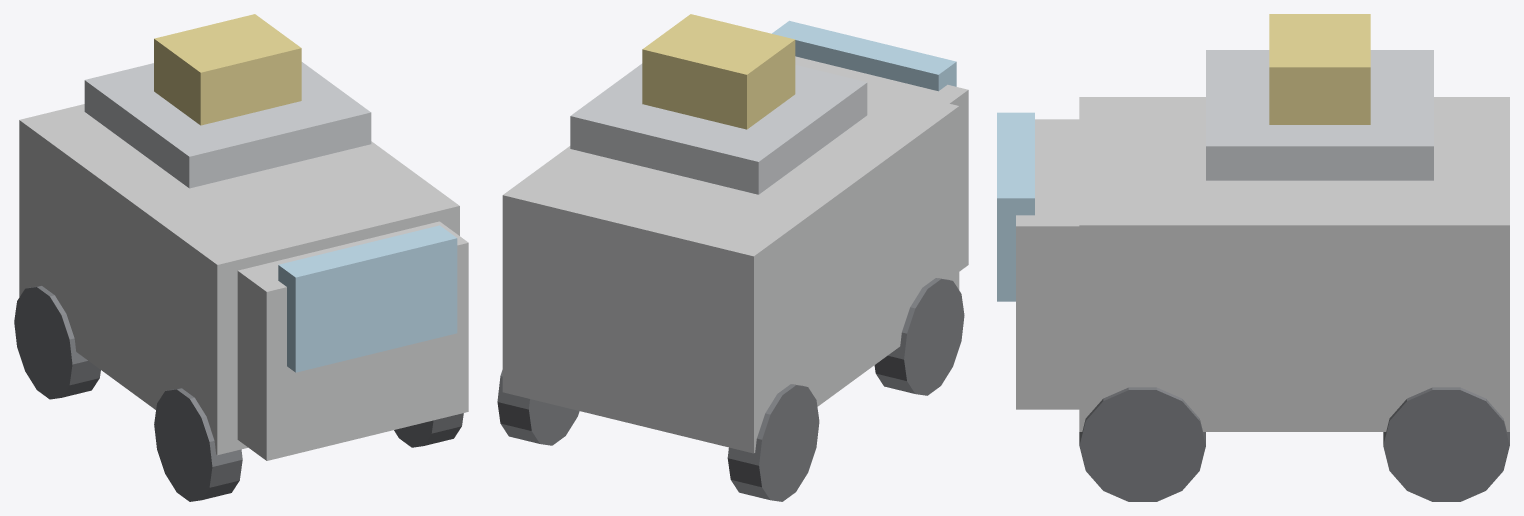
Rendered from service_van.glb.
3 renders of one model, left to right at view 1: azimuth 30°, elevation 25°; view 2: azimuth 150°, elevation 25°; view 3: azimuth 270°, elevation 25°, orthographic. The views are drawn at different scales.
Parts seen in each view (by area): view 1: body, cab_front, windshield, roof_rack, tool_box, wheel_0, wheel_2, wheel_1; view 2: body, roof_rack, tool_box, wheel_2, wheel_0, windshield, cab_front, wheel_3; view 3: body, roof_rack, cab_front, wheel_1, wheel_3, tool_box, windshield.
Part boxes in pixels (bbox=[...]): body: bbox=[19, 104, 459, 455]; cab_front: bbox=[237, 221, 468, 460]; windshield: bbox=[278, 225, 457, 372]; roof_rack: bbox=[84, 62, 371, 188]; tool_box: bbox=[154, 14, 301, 125]; wheel_0: bbox=[154, 388, 242, 501]; wheel_2: bbox=[14, 286, 100, 399]; wheel_1: bbox=[394, 413, 463, 447]; body: bbox=[502, 83, 959, 453]; roof_rack: bbox=[570, 63, 867, 194]; tool_box: bbox=[642, 14, 795, 129]; wheel_2: bbox=[727, 384, 819, 501]; wheel_0: bbox=[874, 278, 964, 395]; windshield: bbox=[772, 20, 956, 91]; cab_front: bbox=[795, 56, 968, 271]; wheel_3: bbox=[497, 370, 579, 445]; body: bbox=[1079, 97, 1509, 431]; roof_rack: bbox=[1206, 50, 1433, 180]; cab_front: bbox=[1016, 119, 1079, 409]; wheel_1: bbox=[1079, 387, 1205, 501]; wheel_3: bbox=[1383, 387, 1509, 501]; tool_box: bbox=[1269, 14, 1370, 124]; windshield: bbox=[997, 112, 1034, 301].
Bounding box in the file's own units: 0.25 × 0.3437 × 0.405.
